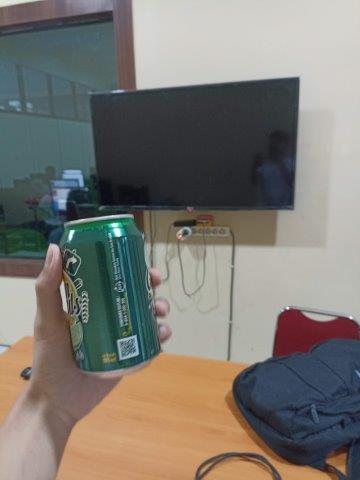kaleng: (59, 214, 161, 377)
